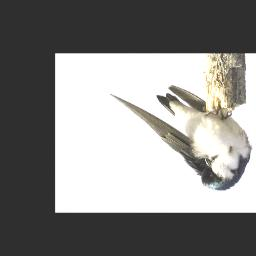Swallow: (110, 84, 254, 192)
